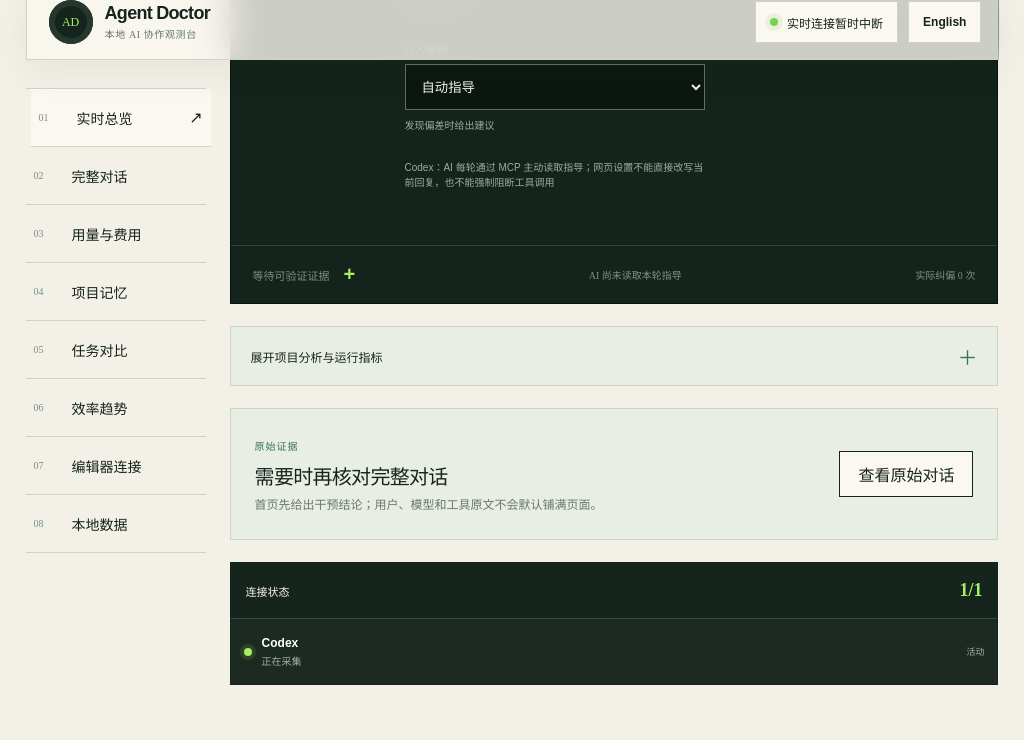
Test: Chinese-first live dashboard › prioritizes task guidance and keeps analysis and raw conversation behind disclosure
The image size is (1024, 740).
(page scrolled)
Step 1. Click the heading "展开项目分析与运行指标" → (317, 358), box [251,351,383,365]
(page scrolled)
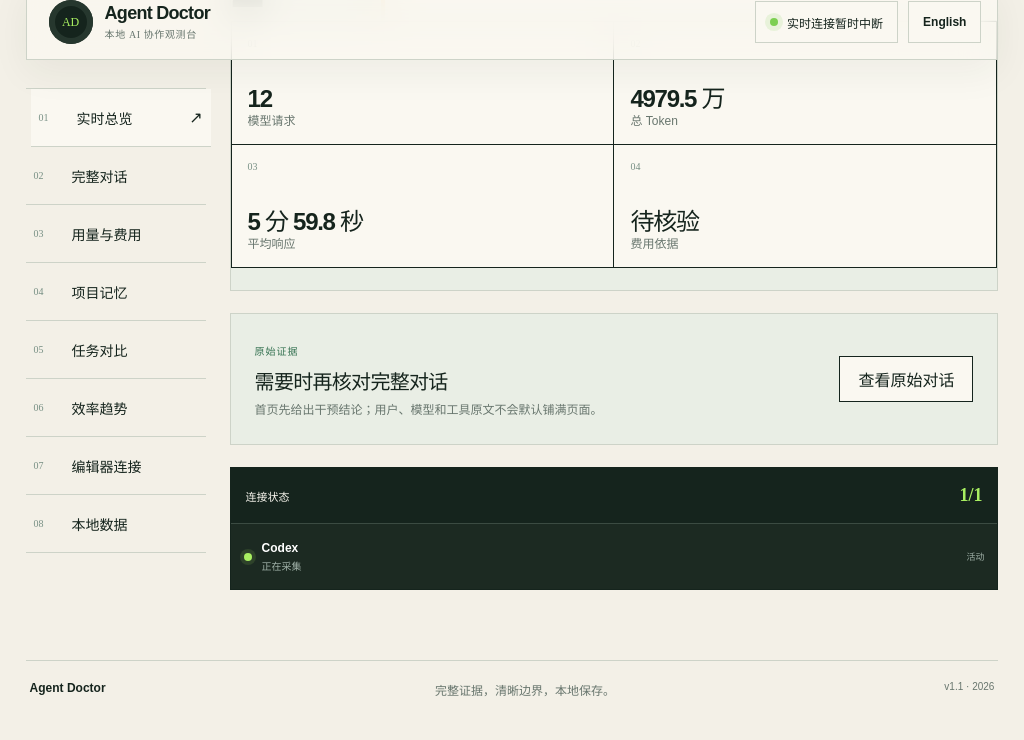
Expected: the text "请完整分析这个问题" is not shown
Result: the text "4979.5 万" is shown at [630,85,724,112]
Step 2. Click the button "查看原始对话" → (906, 379), box [839,356,973,402]
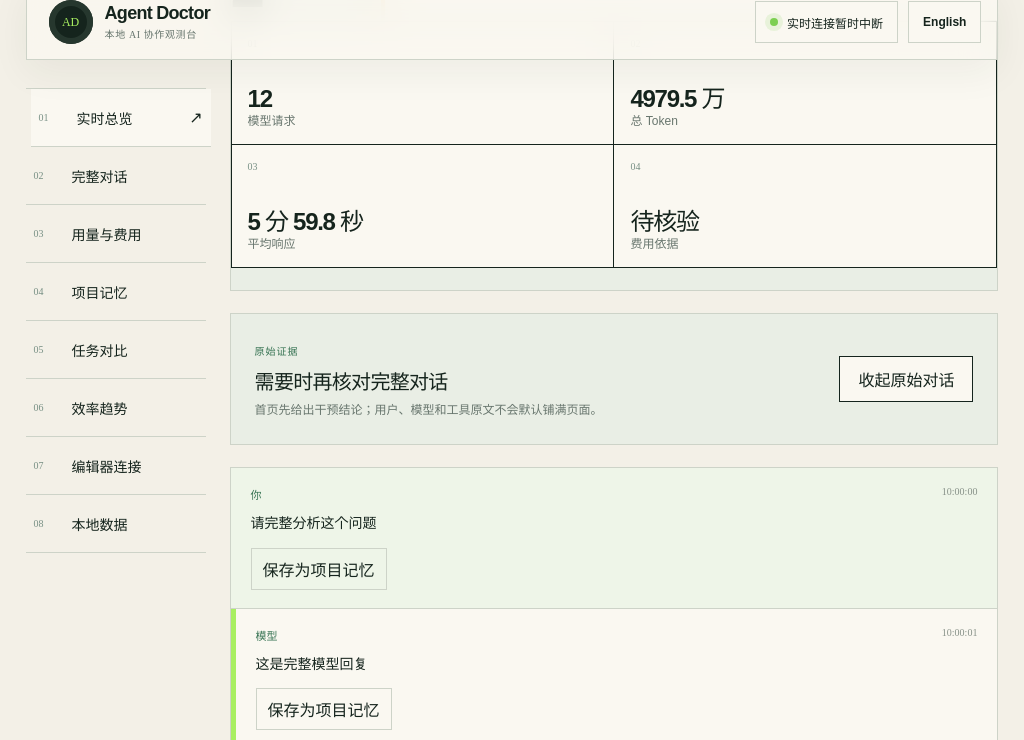
Result: the text "请完整分析这个问题" is shown at [251,515,377,531]
Result: the text "这是完整模型回复" is shown at [256,656,368,672]
